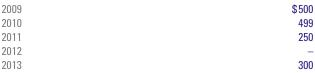table: (0, 1, 312, 70)
table column: (155, 1, 312, 70), (0, 1, 155, 70)
table row: (0, 14, 312, 28), (0, 28, 312, 42), (0, 42, 312, 56), (0, 56, 312, 70), (0, 1, 312, 14)
